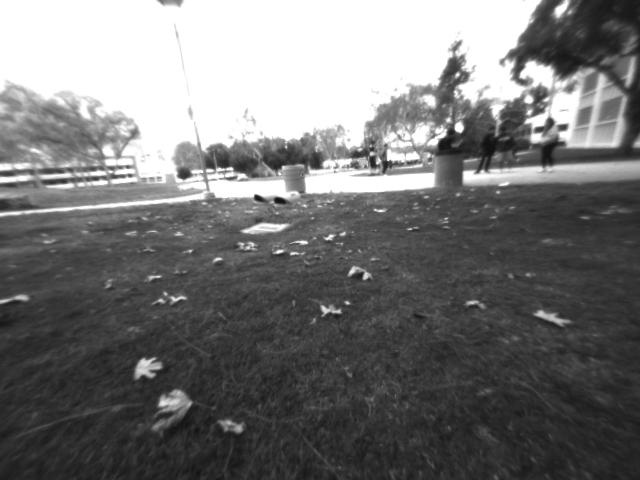trashcan: (434, 148, 461, 191), (281, 160, 308, 199)
